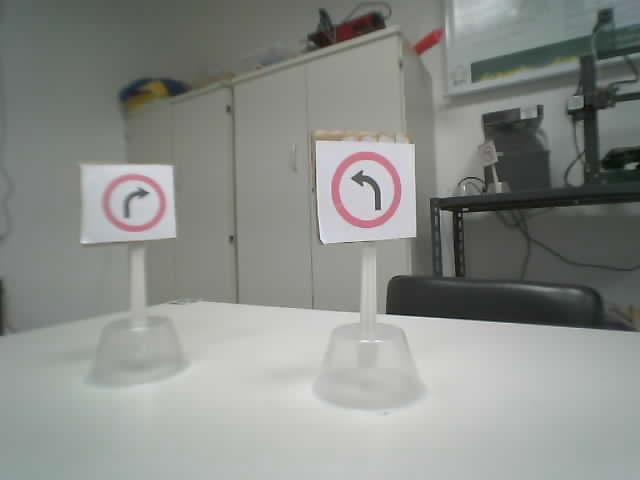R-25a_esquerda: (329, 151, 401, 229)
R-25b_direita: (101, 172, 166, 233)
